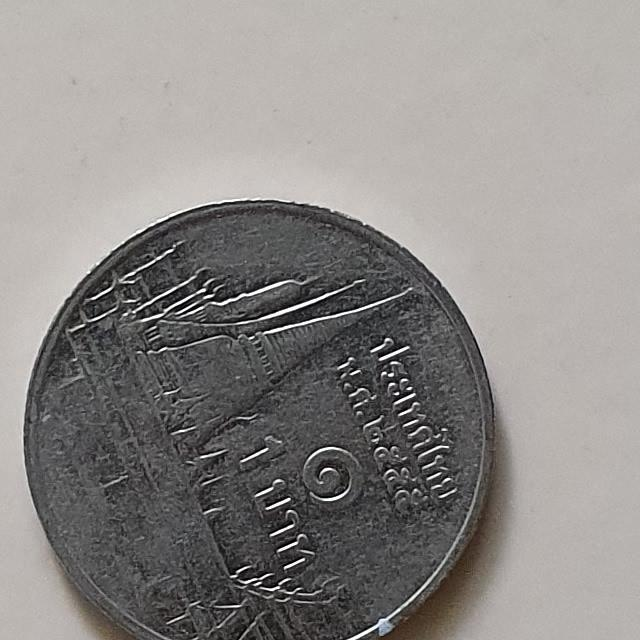1 Bath: (17, 194, 513, 640)
